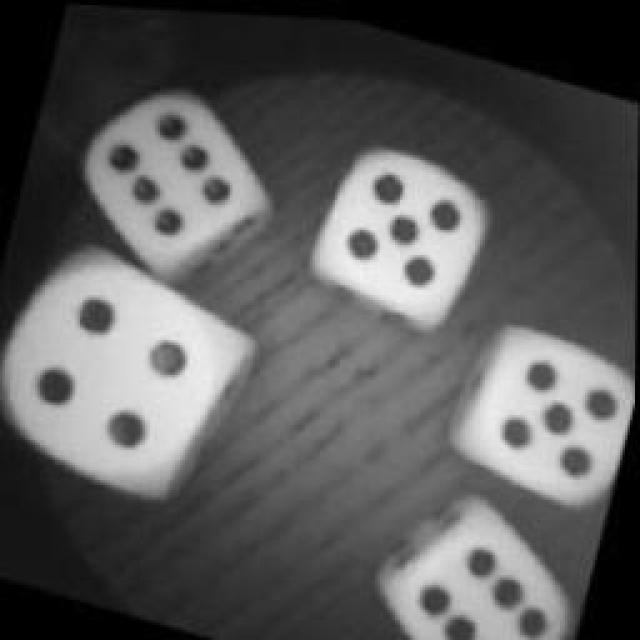dice_4: (0, 215, 270, 525)
dice_5: (291, 114, 509, 338), (444, 299, 638, 509)
dice_6: (64, 59, 291, 299), (351, 472, 599, 640)
